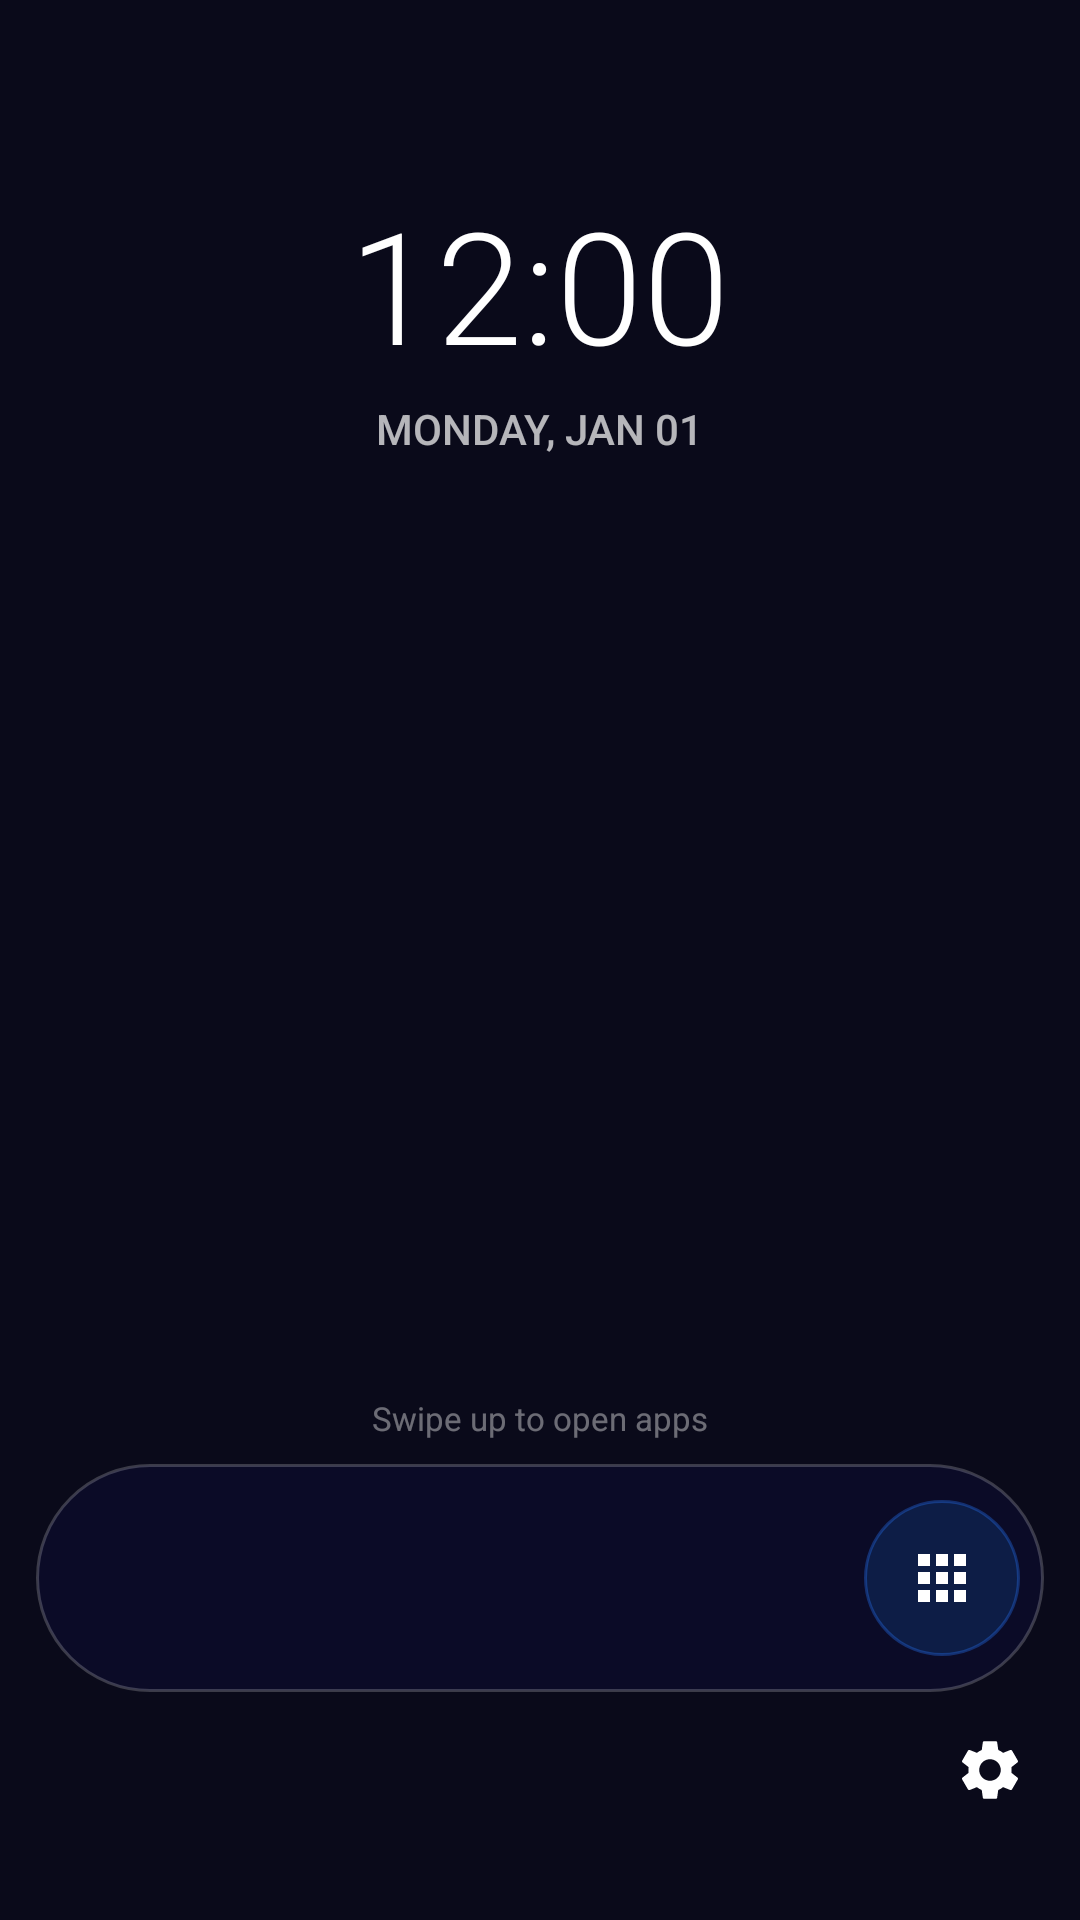

Where to tap for icons on this 1080 × 1920 app screen, as point (x, y):
All Apps: point (942, 1578)
Settings: point (990, 1770)
